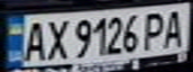1: (90, 15, 109, 56)
2: (106, 12, 127, 56)
6: (121, 11, 145, 54)
9: (69, 16, 93, 60)
A: (18, 18, 51, 63), (160, 7, 190, 50)
P: (139, 8, 172, 51)
X: (42, 16, 72, 61)
